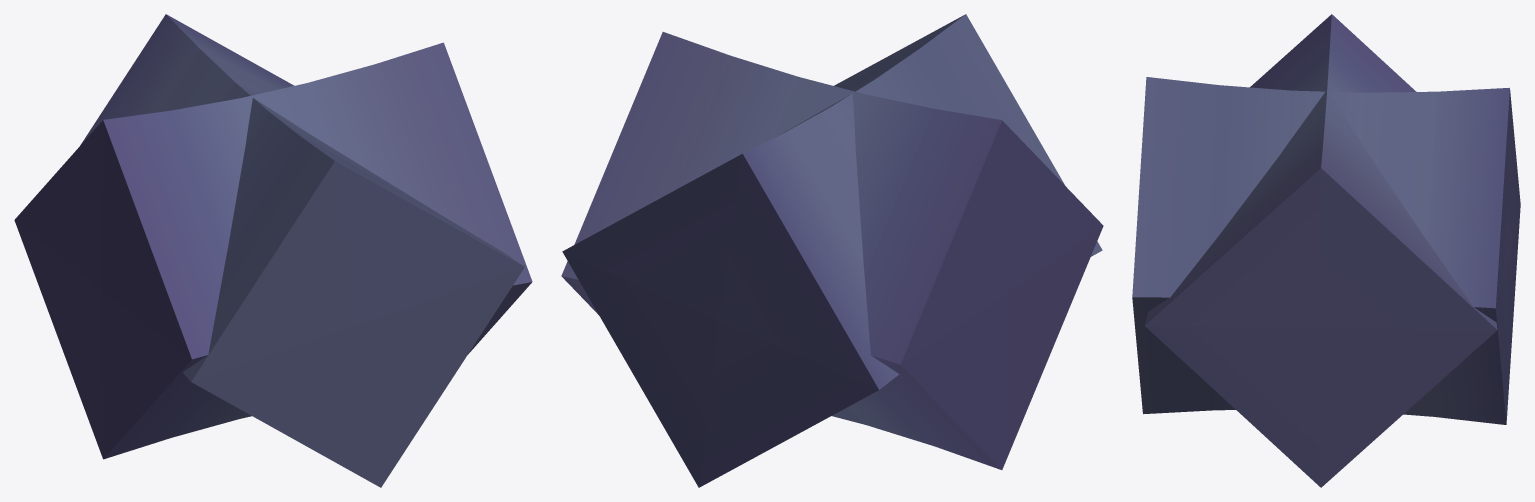
File: Parical-Blue.gltf
3 views of the same model, side by side, from view 1: azimuth 30°, elevation 25°; view 2: azimuth 150°, elevation 25°; view 3: azimuth 270°, elevation 25° (orthographic). The views are drawn at different scales.
Parts seen in each view (by area): view 1: NewLayer0; view 2: NewLayer0; view 3: NewLayer0.
Part boxes in pixels (box(x1,y1,x2,y2)): NewLayer0: box(14, 14, 532, 487); NewLayer0: box(561, 14, 1103, 487); NewLayer0: box(1132, 14, 1520, 487).
Bounding box in the file's own units: 0.3504 × 0.3301 × 0.3631.
